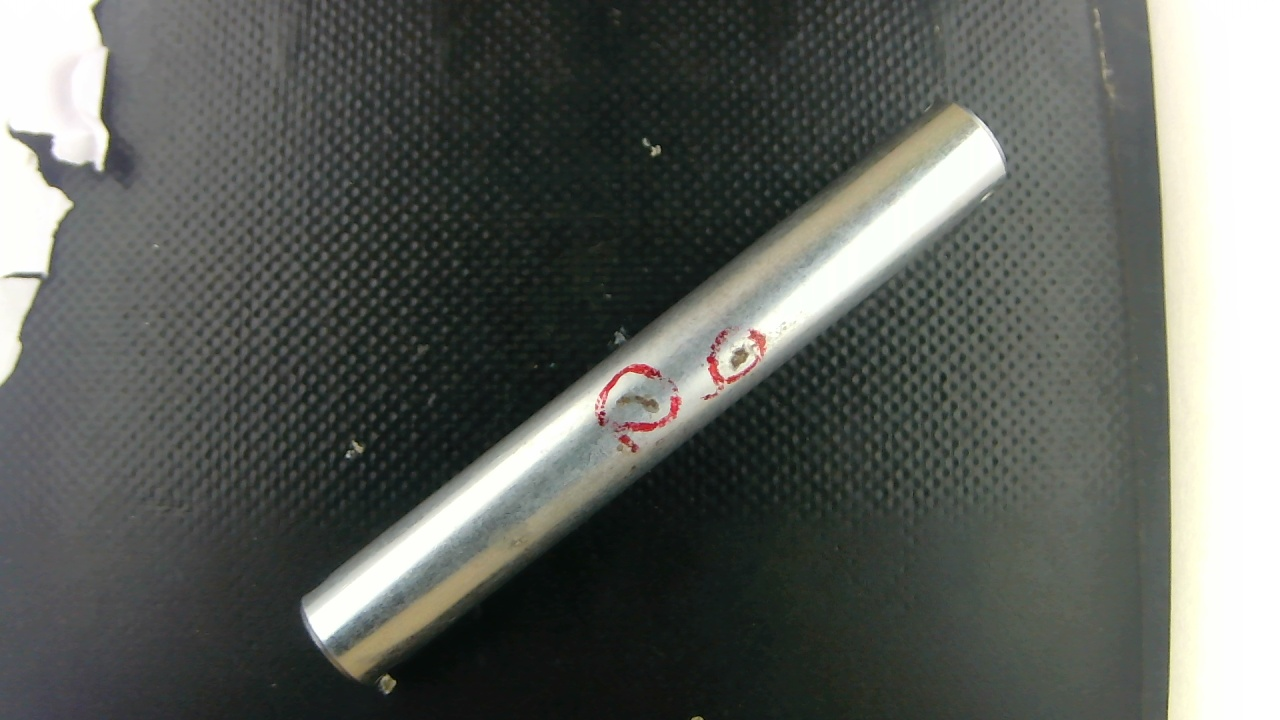rust_pin: (616, 390, 659, 417)
